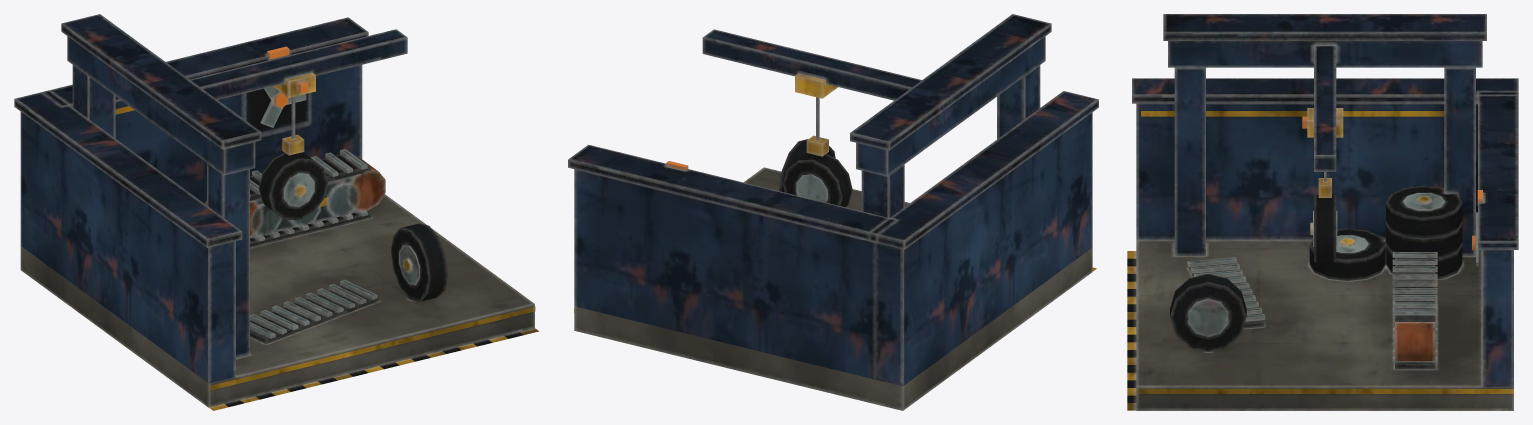
The model's file is drive_works.glb.
The picture shows the model from 3 angles, left to right: view 1: azimuth 30°, elevation 25°; view 2: azimuth 150°, elevation 25°; view 3: azimuth 270°, elevation 25°; orthographic projection.
Parts seen in each view (by area): view 1: te_drive_works, move_fan_1; view 2: te_drive_works; view 3: te_drive_works.
Part boxes in pixels (<box>): te_drive_works: <box>14,14,538,410</box>; move_fan_1: <box>260,86,306,127</box>; te_drive_works: <box>568,14,1098,410</box>; te_drive_works: <box>1127,14,1518,410</box>.
Size of the model in its own units: 0.86 by 0.615 by 0.87.
Materials: 1 (1 with a texture image).
